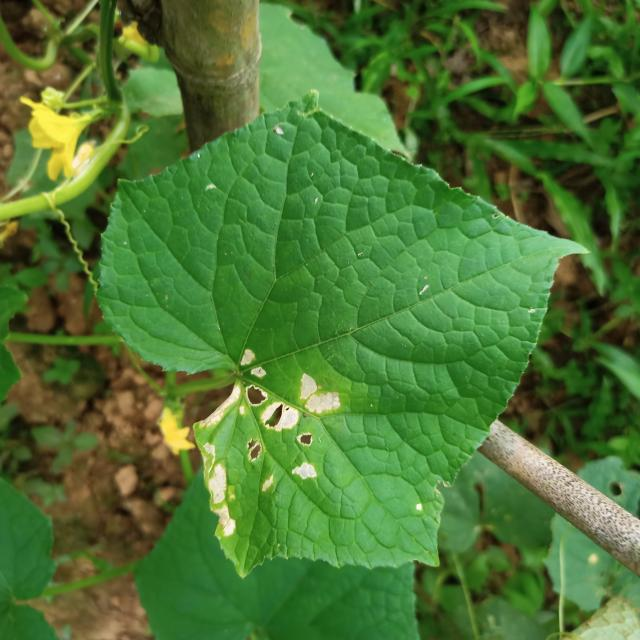disease_cucumber: (198, 349, 343, 538)
